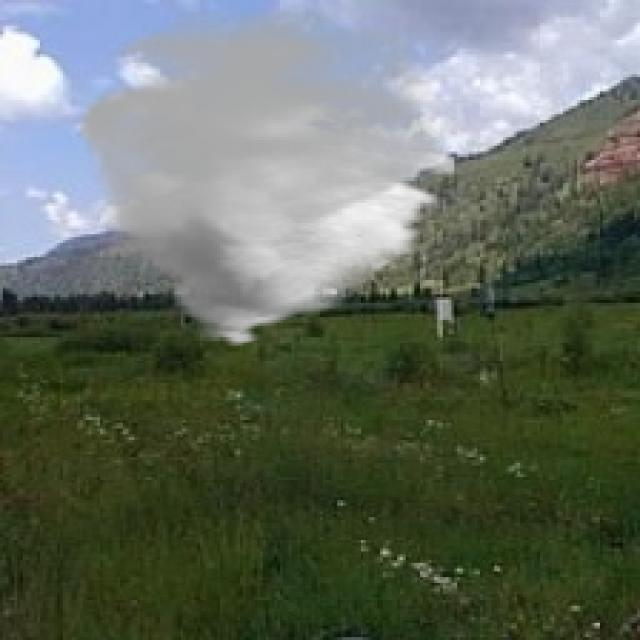smoke: (72, 6, 454, 348)
